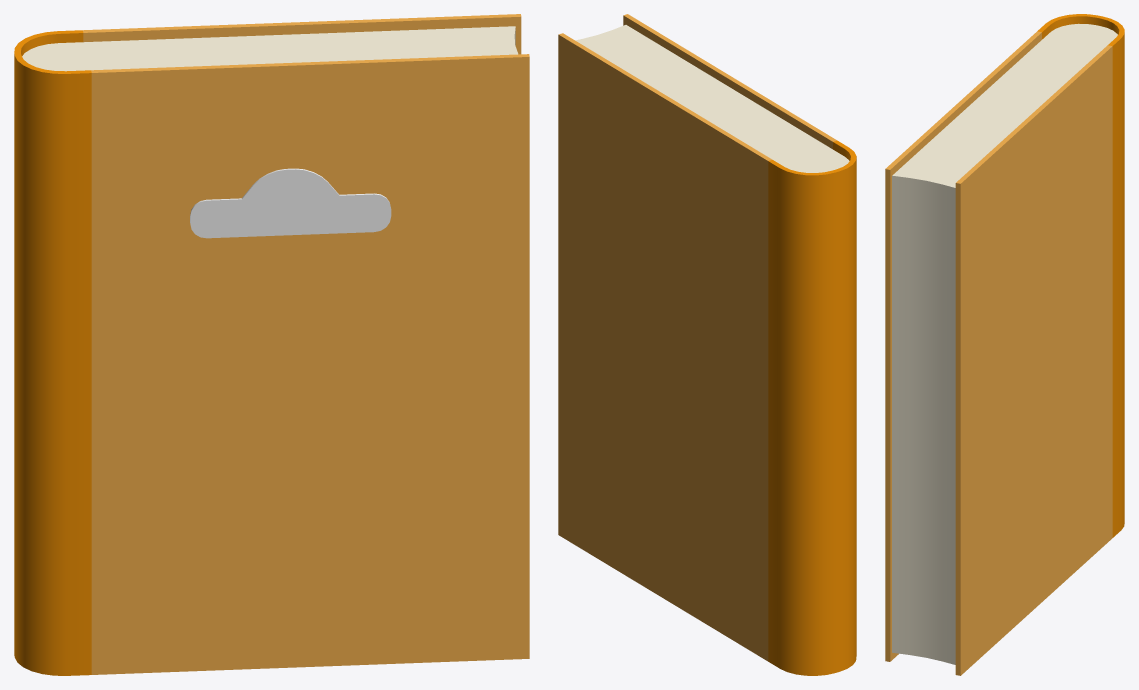
The model's file is notebook_with_decorative_cover.gltf.
The picture shows the model from 3 angles, left to right: view 1: azimuth 30°, elevation 25°; view 2: azimuth 150°, elevation 25°; view 3: azimuth 270°, elevation 25°; orthographic projection. The views are drawn at different scales.
Parts seen in each view (by area): view 1: Cube.945; view 2: Cube.945; view 3: Cube.945.
Part boxes in pixels (<box>): Cube.945: <box>14,14,529,675</box>; Cube.945: <box>558,14,856,675</box>; Cube.945: <box>885,14,1124,675</box>.
Bounding box in the file's own units: 1.55 × 2.1 × 0.9263.
Materials: 1 (1 with a texture image).
